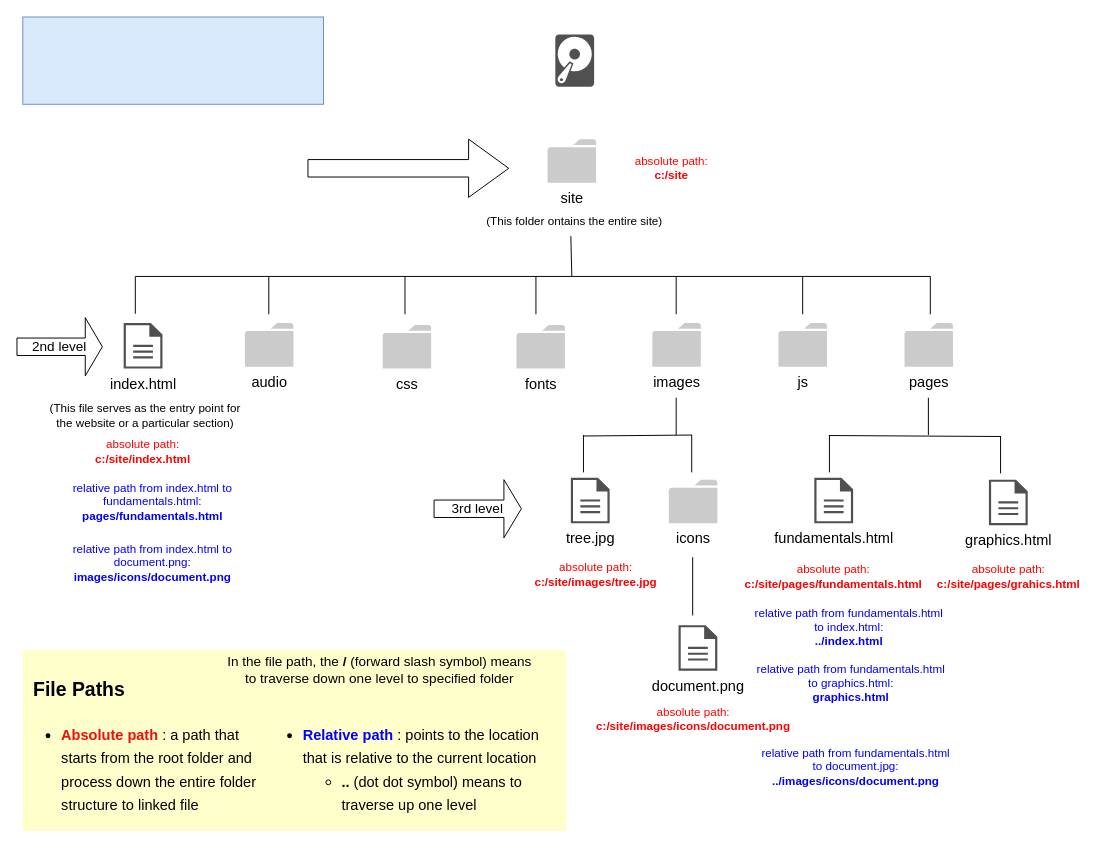
This 1101x853 diagram has some shape labels left out. The centre of each missing label's shape, as x and y in pixels:
"c:" goes at (574,60).
"in-class website folder structure / directory" goes at (172,60).
"root folder / 1st level" goes at (408,167).
